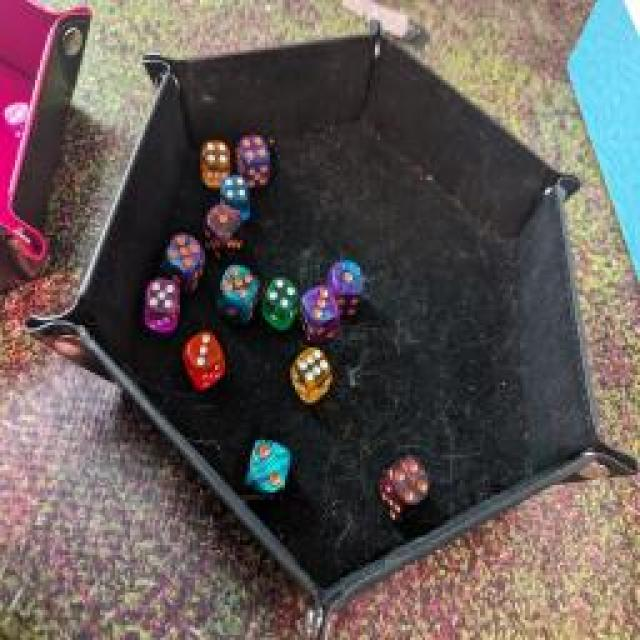dice_1: (203, 198, 245, 254), (329, 260, 369, 315)
dice_2: (245, 434, 295, 498)
dice_3: (298, 282, 344, 348), (182, 329, 228, 389)
dice_4: (380, 450, 435, 525), (262, 271, 302, 329), (236, 130, 272, 188), (202, 135, 232, 193), (222, 168, 252, 208)
dice_5: (160, 225, 208, 300), (221, 260, 261, 330), (144, 272, 184, 326)
dice_6: (290, 341, 335, 404)
